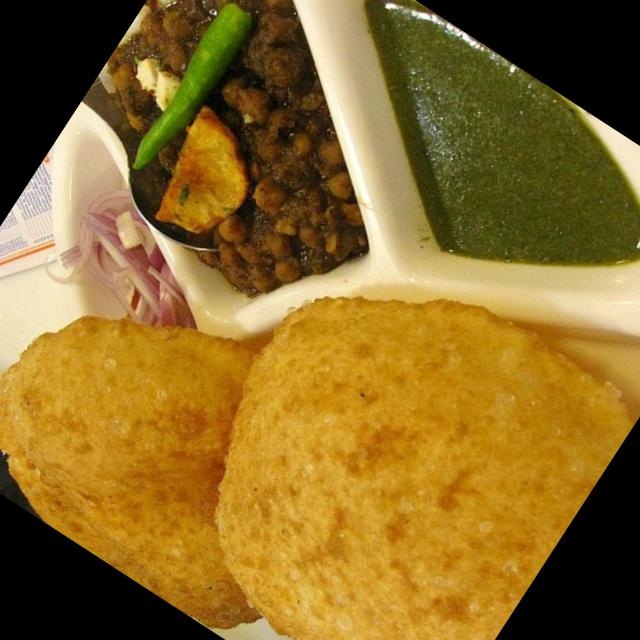Bhatura: (130, 211, 640, 640), (0, 234, 392, 640)
Chole: (43, 0, 463, 339)
